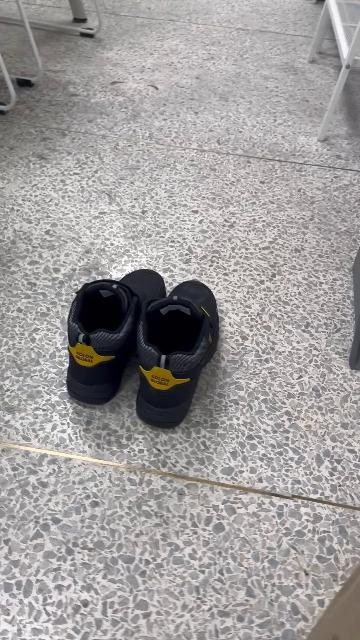shoe_worn: (61, 268, 165, 407), (146, 278, 224, 424)
